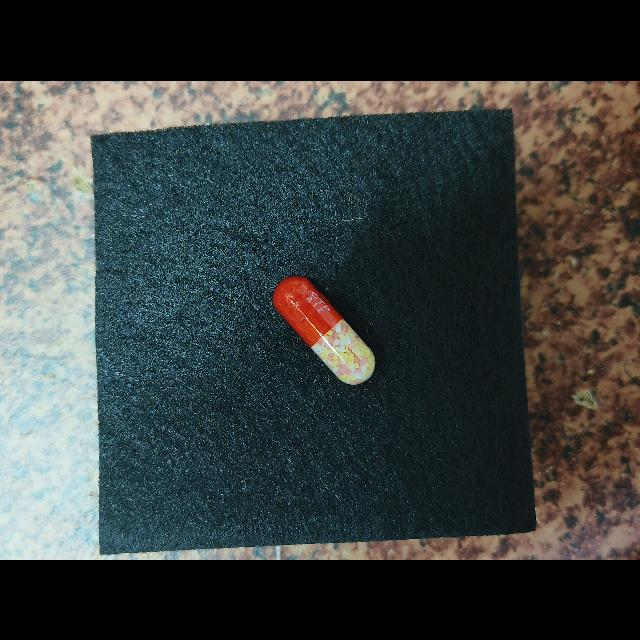Intact Capsule: (273, 275, 376, 384)
